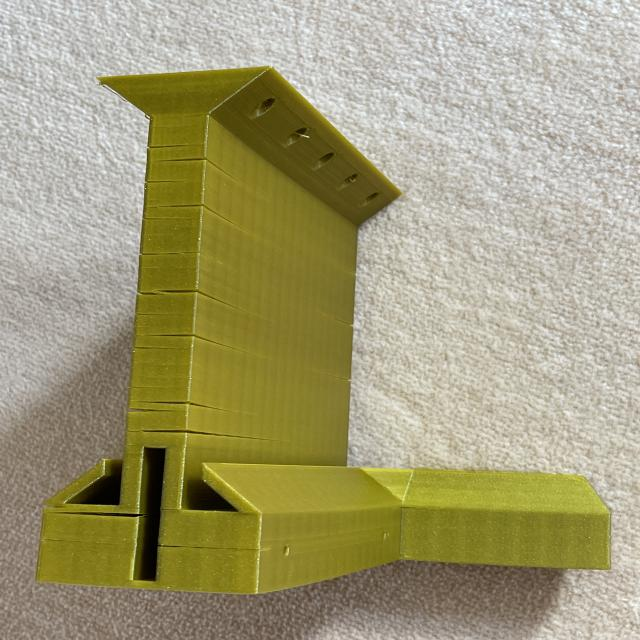cracks: (128, 395, 290, 452), (152, 196, 314, 242), (144, 274, 250, 308), (145, 327, 250, 354)
